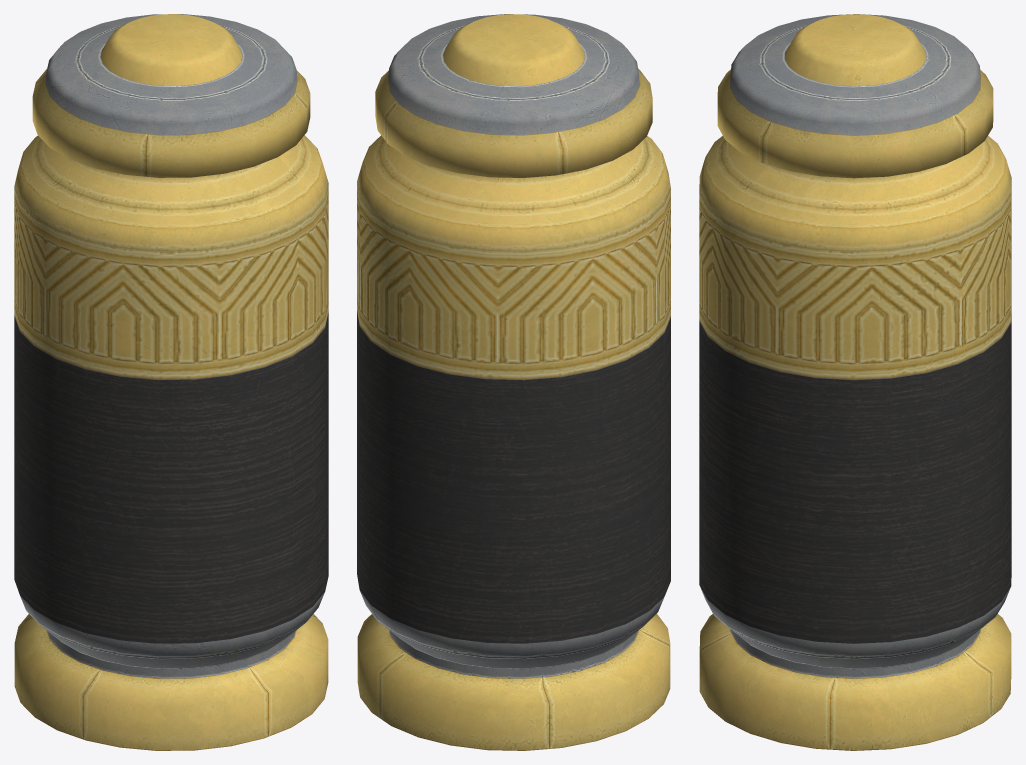
File: Vessel_02.fbx
3 renders of one model, left to right at view 1: azimuth 30°, elevation 25°; view 2: azimuth 150°, elevation 25°; view 3: azimuth 270°, elevation 25°, orthographic.
Parts seen in each view (by area): view 1: Vessel_02; view 2: Vessel_02; view 3: Vessel_02.
Boxes of the visible parts, x1,y1,x2,y2 form: Vessel_02: [14, 14, 328, 750]; Vessel_02: [357, 14, 670, 750]; Vessel_02: [699, 14, 1011, 750].
Size of the model in its own units: 29.94 by 68.11 by 29.77.
